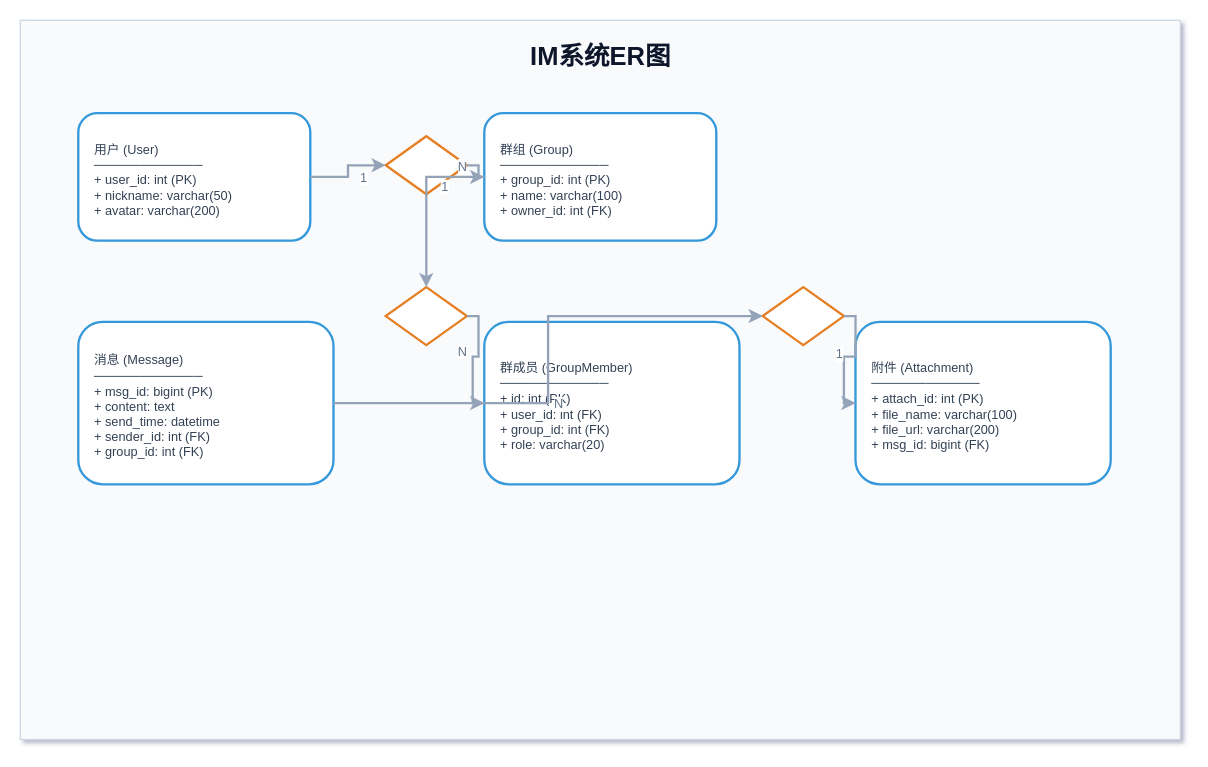
Some shapes in this 1208 by 767 pixel diagram are drawn without their labels. The shapes that lost their labels are listed below. From the top down, each one's box as (x1, y1, x2, y2) in pixels, then its label:
(384, 135, 467, 195): 创建
(384, 285, 467, 346): 包含
(761, 285, 844, 346): 关联
